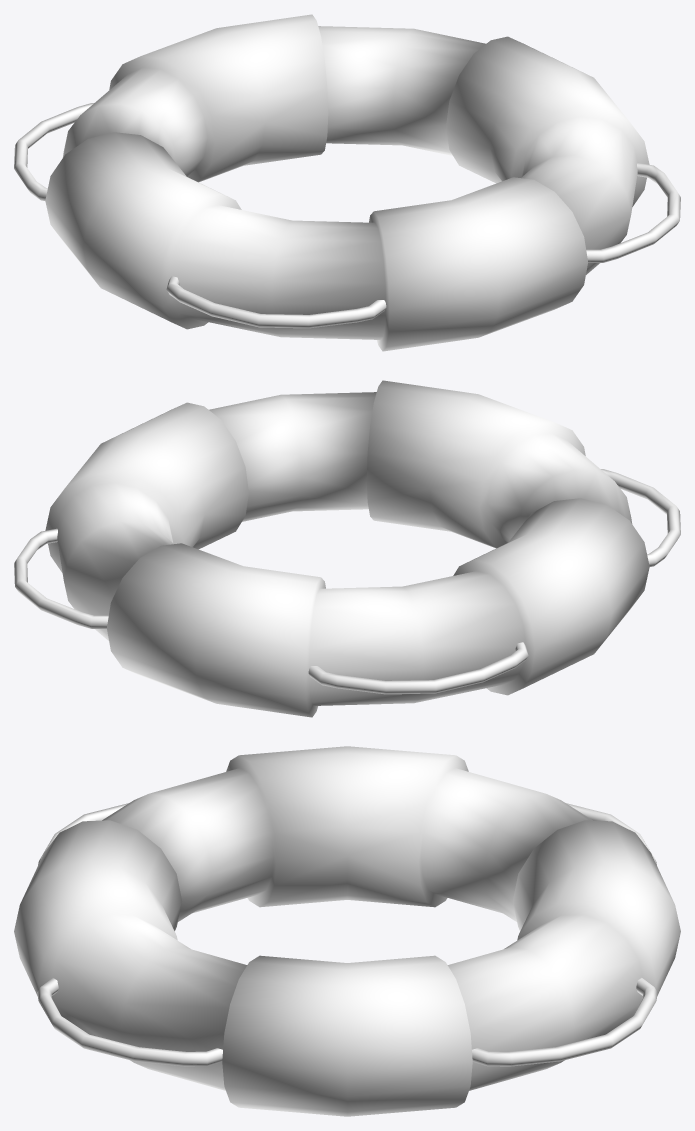
File: Lifebuoy5.obj
3 views of the same model, one above another, from view 1: azimuth 30°, elevation 25°; view 2: azimuth 150°, elevation 25°; view 3: azimuth 270°, elevation 25° (orthographic). The views are drawn at different scales.
Parts seen in each view (by area): view 1: Torus; view 2: Torus; view 3: Torus.
Boxes of the visible parts, <box> form: Torus: <box>14,14,680,351</box>; Torus: <box>14,380,680,717</box>; Torus: <box>14,746,680,1116</box>.
Bounding box in the file's own units: 1 × 0.2307 × 1.
Materials: 1 (1 with a texture image).
